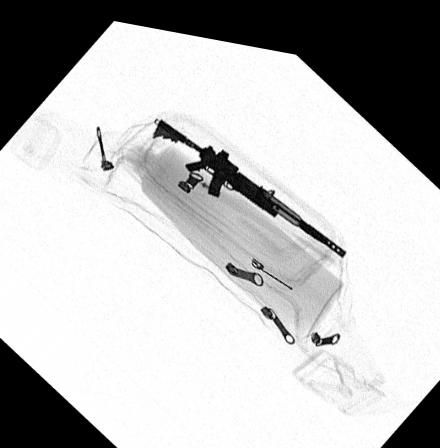Bullet: (252, 176, 322, 231)
Gun: (152, 113, 345, 247)
